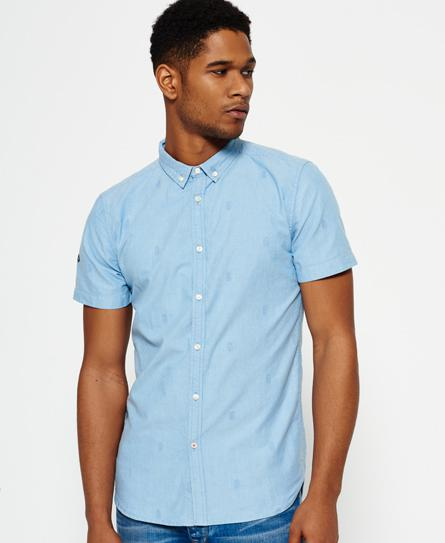teeshirt: (59, 132, 352, 527)
